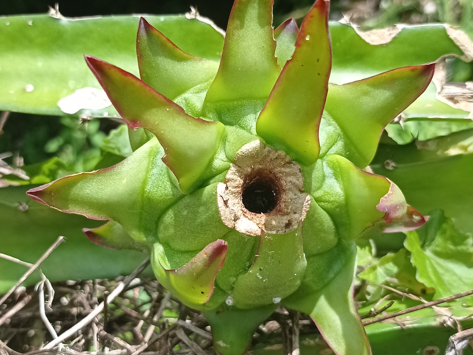Belum Matang: (40, 40, 422, 302)
